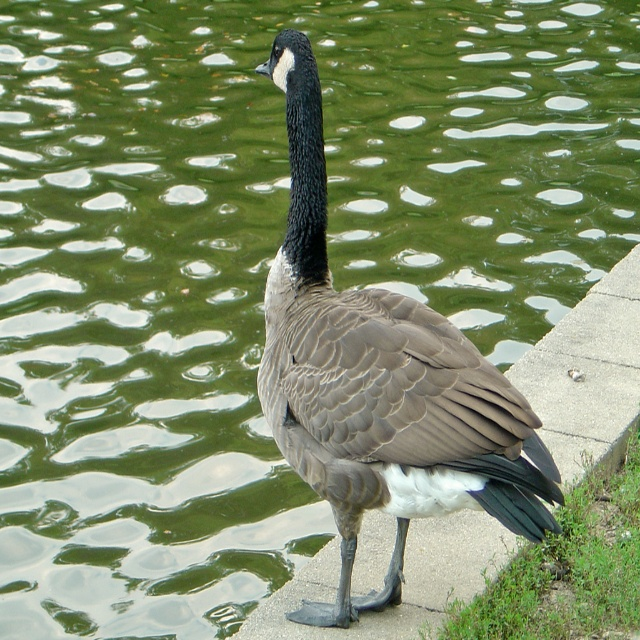Goose: (250, 25, 563, 625)
